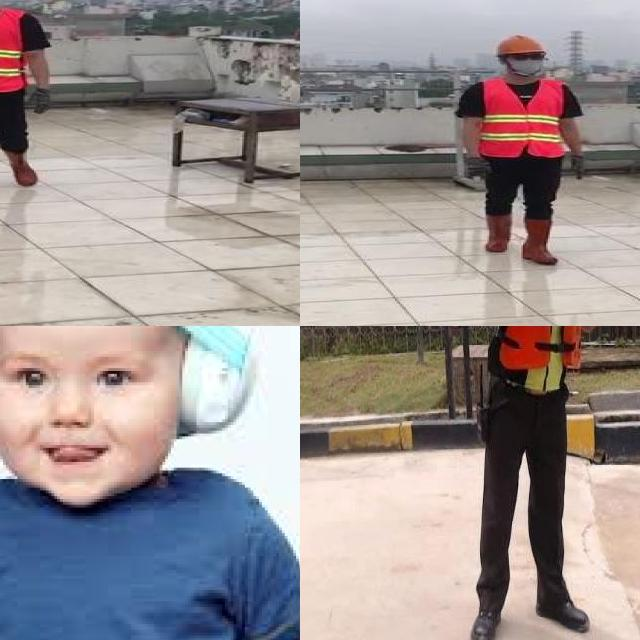Ear-protection: (0, 326, 270, 442)
boots: (532, 589, 593, 640), (521, 219, 564, 265), (4, 150, 46, 188), (469, 599, 506, 640), (486, 214, 512, 252)
face_mask: (508, 51, 549, 76)
glasses: (510, 51, 544, 63)
hand_glove: (560, 153, 589, 181), (464, 161, 490, 181), (29, 88, 50, 112)
head_helmet: (492, 34, 549, 56)
person: (438, 326, 640, 640), (452, 32, 599, 270), (0, 0, 56, 199)
vest: (476, 77, 566, 159), (488, 326, 588, 399), (0, 10, 30, 93)
